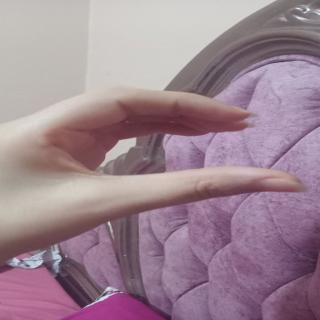JEEM: (0, 81, 307, 217)
